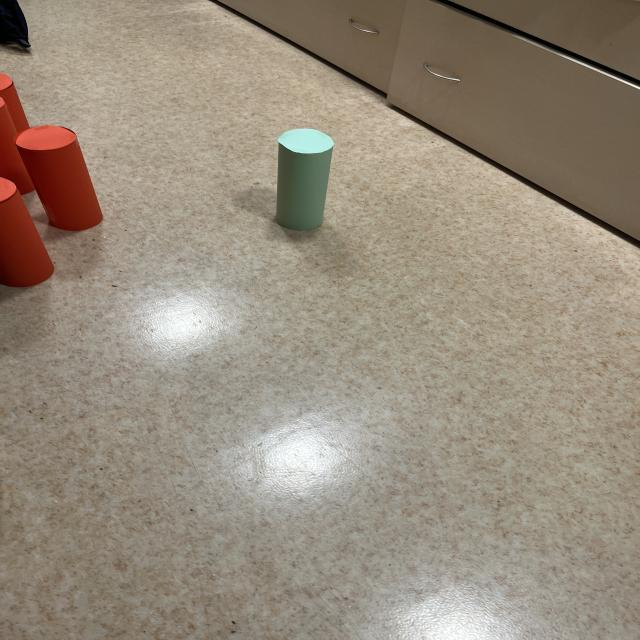meta: (276, 129, 334, 231)
